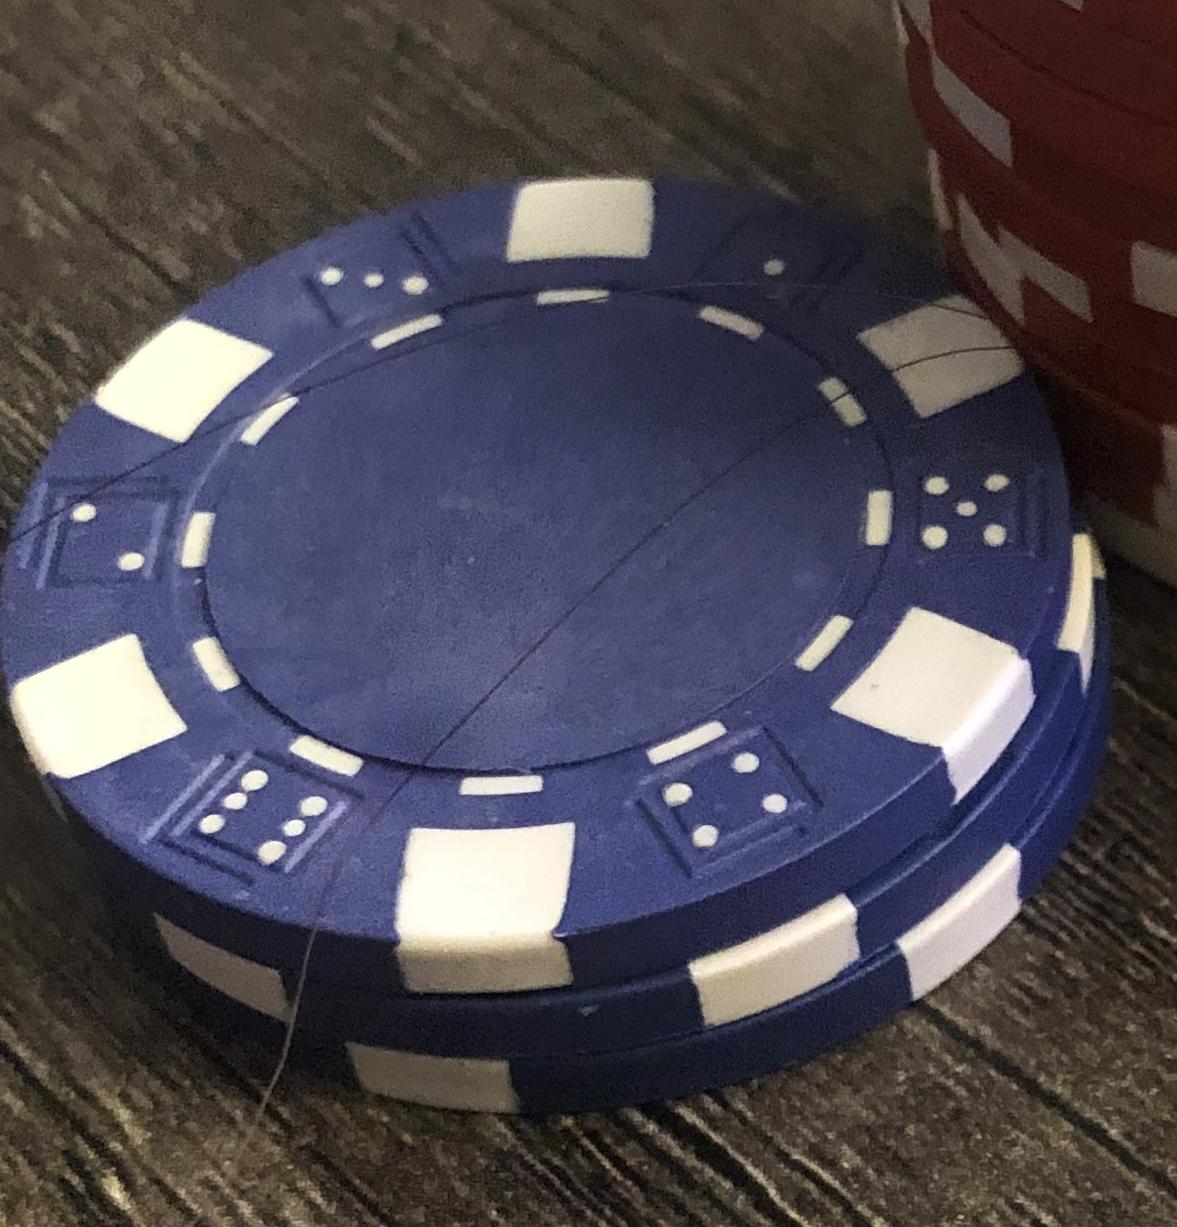Chip: (1, 1, 1177, 1227)
